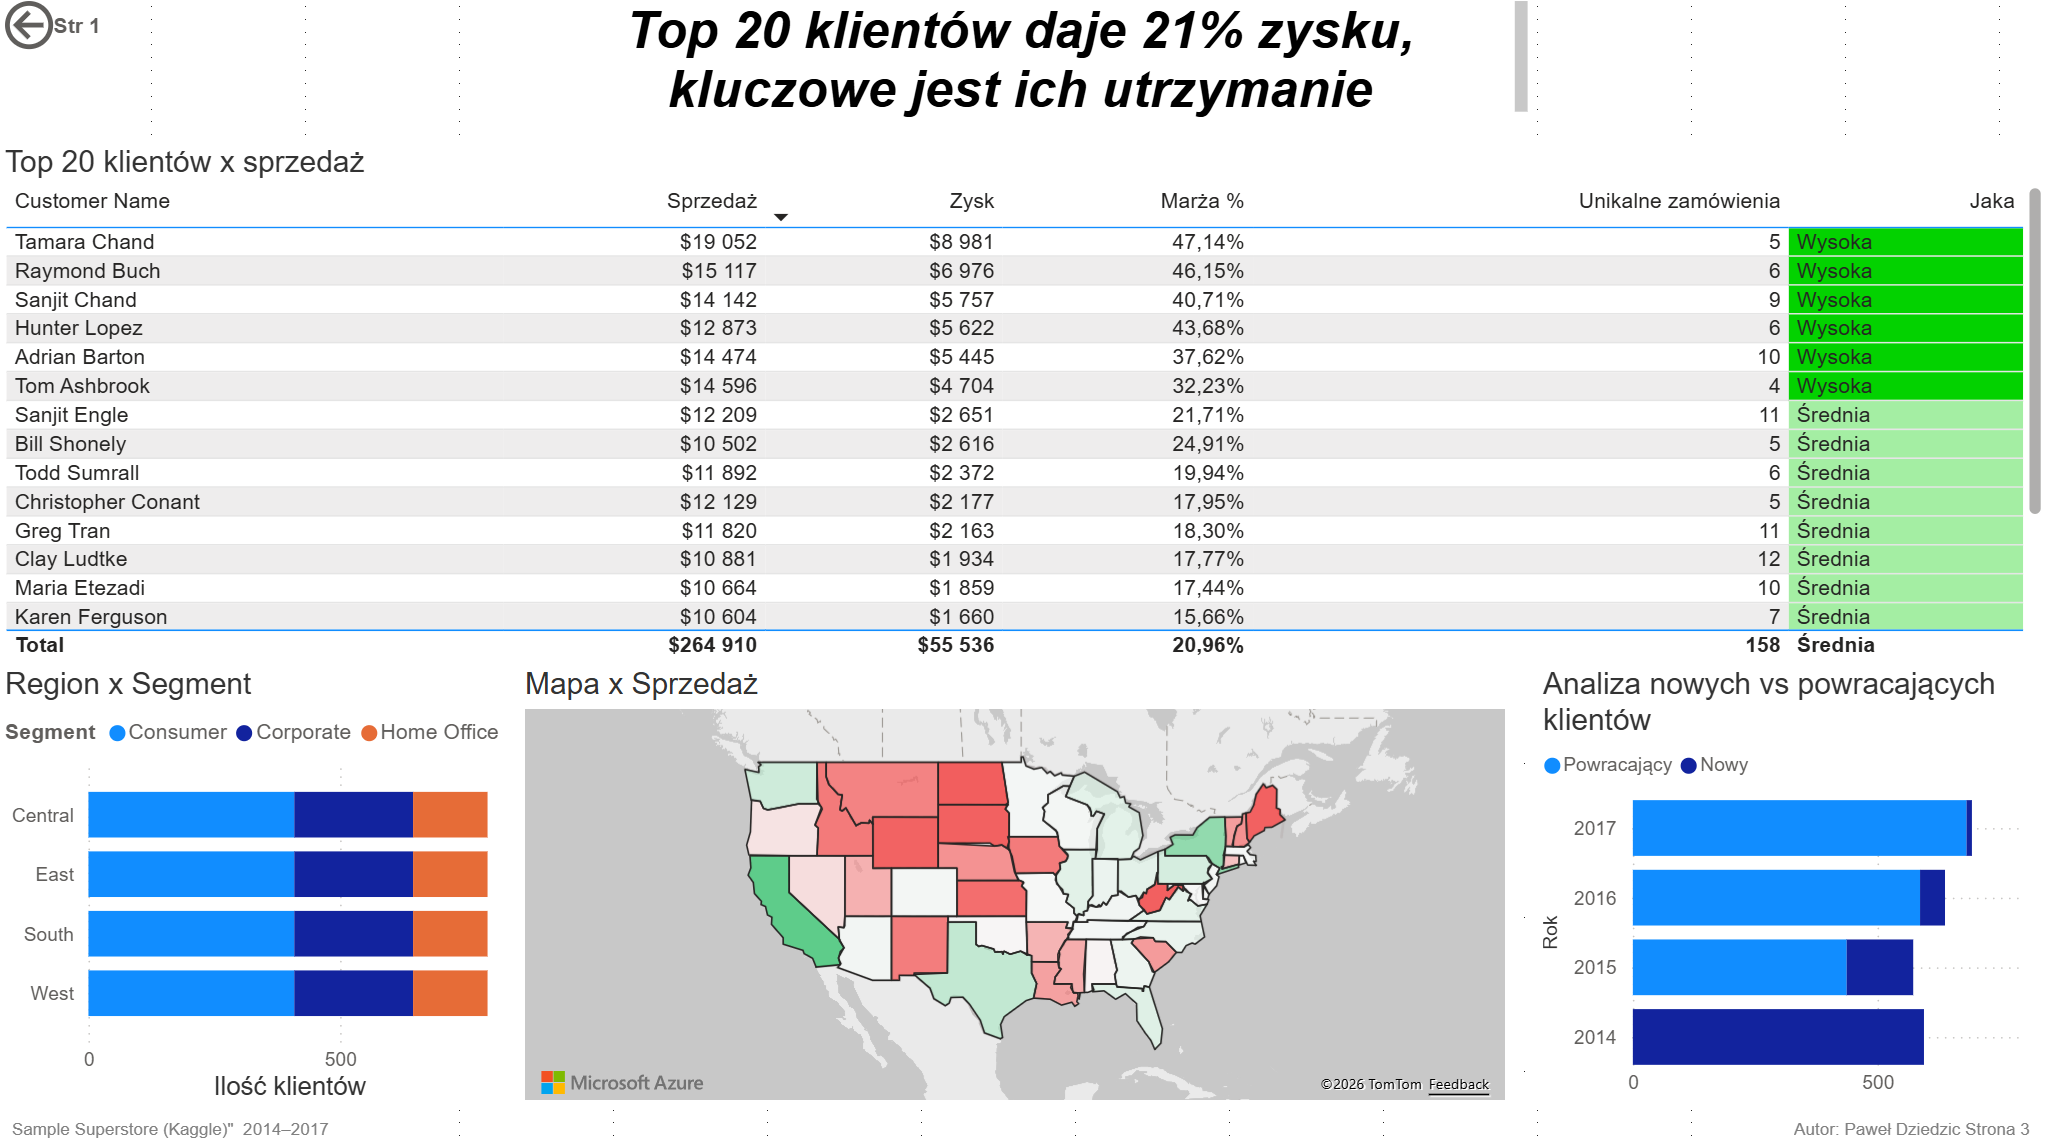

The page's visual inventory and layout, read from the dashboard file:
{"tool":"powerbi","page":{"name":"Klienci + geografia","canvas":[1280,720],"ordinal":2},"visuals":[{"type":"azureMap","title":"Mapa x Sprzedaż","fields":{"Location":["Fact_orders.State"],"Category":["Fact_orders.State"]},"box":[324,420,621,275],"z":0},{"type":"textbox","box":[1,695,260,25],"z":0,"group":"g1"},{"type":"barChart","title":"Region x Segment","fields":{"Category":["Fact_orders.Region","dim_customer.Segment"],"Series":["dim_customer.Segment"],"Y":["Count(dim_customer.Customer ID)"]},"box":[0,420,324,275],"z":1000},{"type":"textbox","box":[1115,695,165,25],"z":1000,"group":"g1"},{"type":"barChart","title":"Analiza nowych vs powracających klientów","fields":{"Category":["Dim_date.Rok","Dim_date.Kwartał"],"Y":["Fact_orders.Returning customers","Fact_orders.New Customers"]},"box":[959,420,321,275],"z":2000},{"type":"tableEx","title":"Top 20 klientów x sprzedaż","fields":{"Values":["dim_customer.Customer Name","Fact_orders.Total_sales","Fact_orders.Total_profit","Fact_orders.Profit Margin %","Fact_orders.Order ID","Fact_orders.measure of amrgin"]},"box":[0,95,1279.7,325.4],"z":3000},{"type":"actionButton","box":[0,0,100,40],"z":4000},{"type":"textbox","box":[324,0,635,95],"z":5000},{"type":"group","id":"g1","title":"Group 1","box":[1,695,1279,25],"z":6000}]}

Visuals, with their boxes in screenshot pixels (x1, y1, x2, y2), scaled from the page's 1280x720 canvas onto the 2049x1146 screenshot:
"Mapa x Sprzedaż" azureMap: (x1=519, y1=668, x2=1513, y2=1106)
textbox: (x1=2, y1=1106, x2=418, y2=1145)
"Region x Segment" barChart: (x1=0, y1=668, x2=519, y2=1106)
textbox: (x1=1785, y1=1106, x2=2048, y2=1145)
"Analiza nowych vs powracających klientów" barChart: (x1=1535, y1=668, x2=2048, y2=1106)
"Top 20 klientów x sprzedaż" tableEx: (x1=0, y1=151, x2=2048, y2=669)
actionButton: (x1=0, y1=0, x2=160, y2=64)
textbox: (x1=519, y1=0, x2=1535, y2=151)
"Group 1" group: (x1=2, y1=1106, x2=2048, y2=1145)
